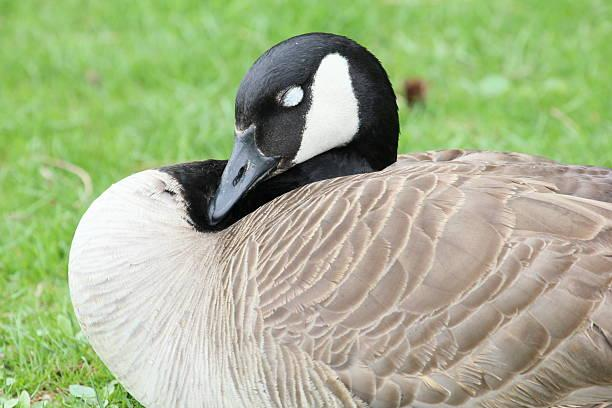Canadian-Goose: (58, 27, 612, 408)
